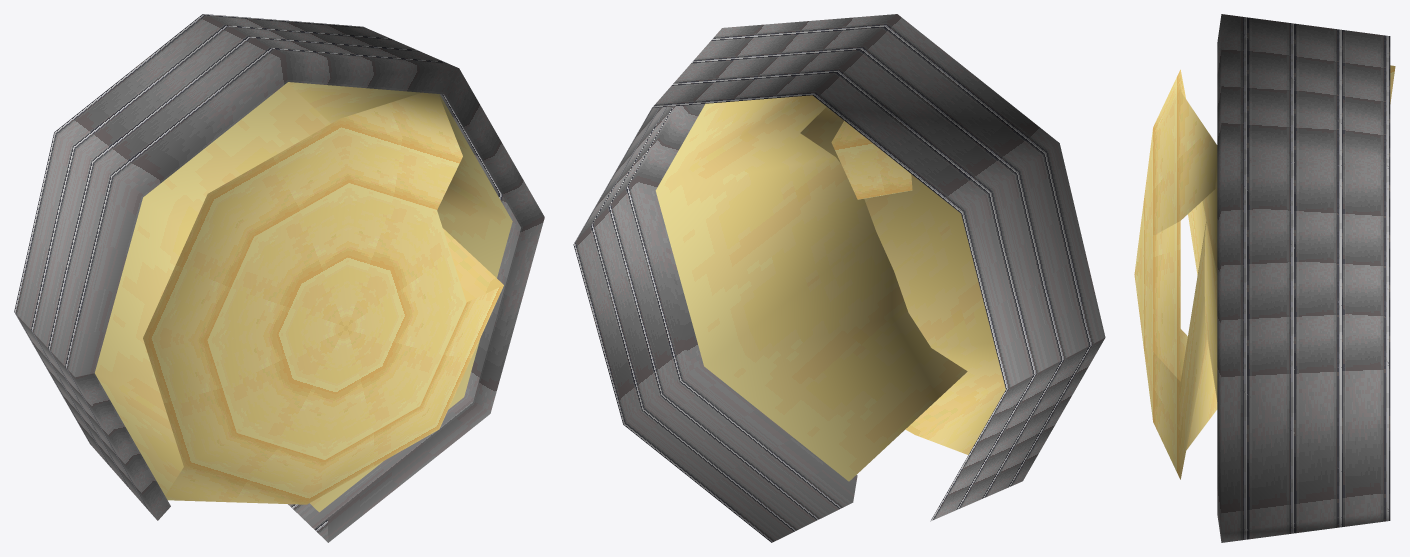
File: 1398item2788r.gltf
3 views of the same model, side by side, from view 1: azimuth 30°, elevation 25°; view 2: azimuth 150°, elevation 25°; view 3: azimuth 270°, elevation 25° (orthographic).
Parts seen in each view (by area): view 1: 1398item2788r; view 2: 1398item2788r; view 3: 1398item2788r.
Boxes of the visible parts, box(x1,y1,x2,y2) form: 1398item2788r: box(14, 14, 544, 542); 1398item2788r: box(573, 14, 1105, 542); 1398item2788r: box(1134, 14, 1395, 542).
Size of what is drawn, in the model's own units: 0.9746 by 0.991 by 0.4624.
2 materials, 2 textured.
